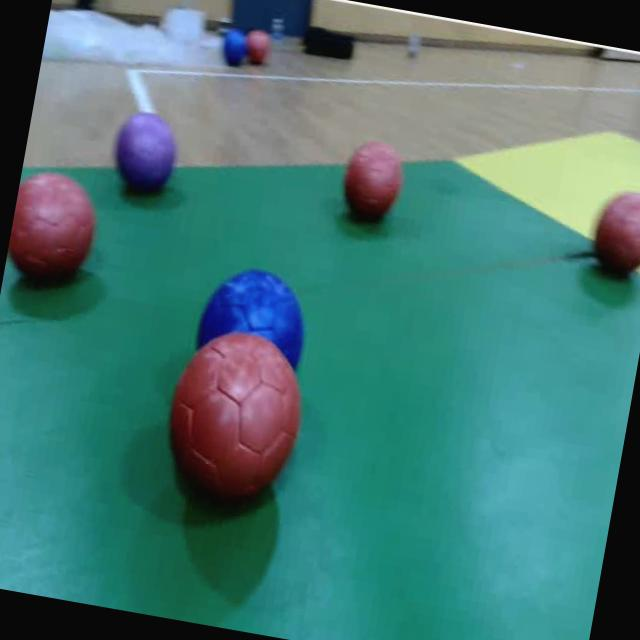blue_ball: (184, 258, 326, 418), (217, 23, 253, 77)
purple_ball: (104, 101, 186, 206)
red_ball: (149, 312, 328, 534), (2, 164, 106, 294), (336, 134, 412, 236), (581, 179, 640, 293), (243, 26, 275, 70)
